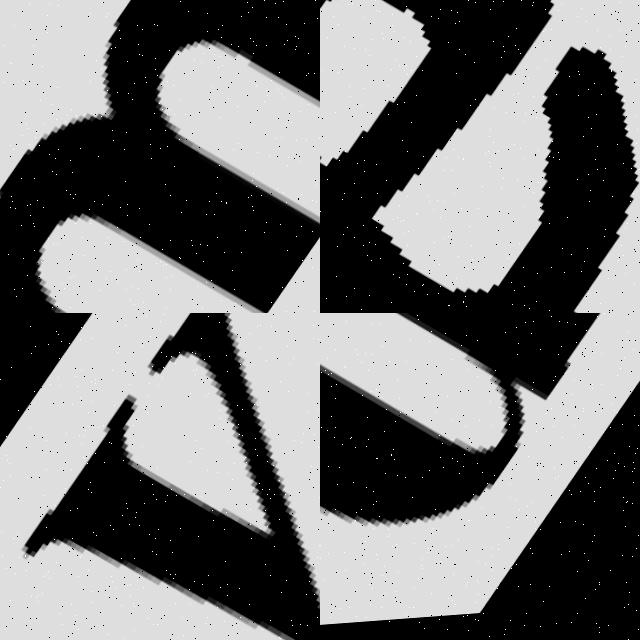D: (320, 313, 640, 612)
E: (320, 0, 640, 313)
M: (0, 0, 320, 313)
Y: (0, 313, 320, 640)
